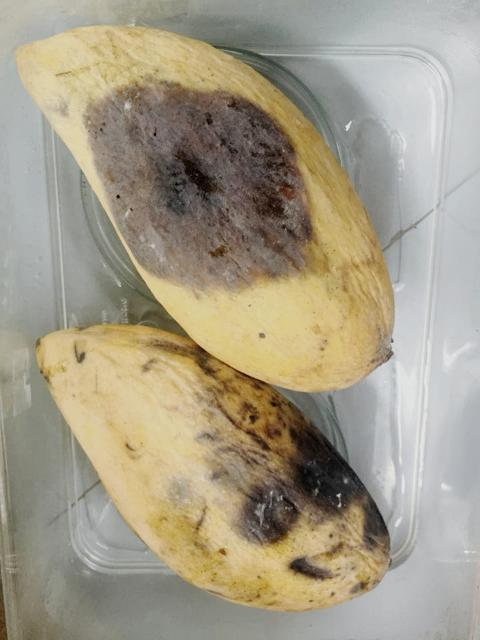Mango Overripe: (10, 5, 427, 610)
